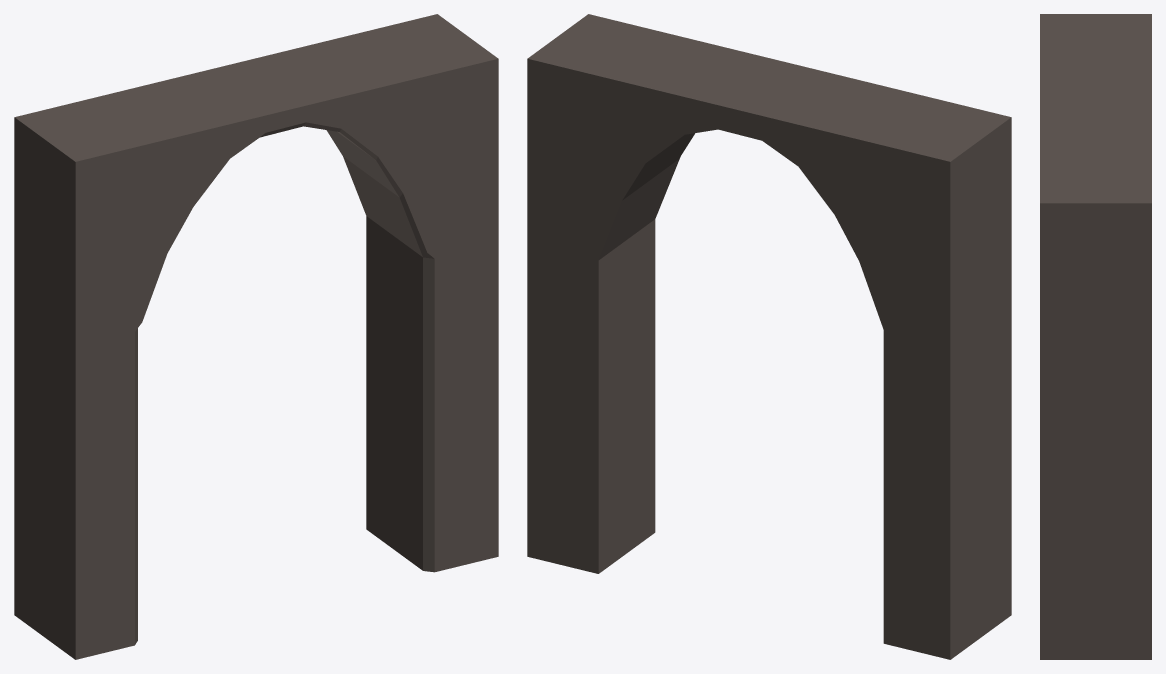
File: MCastle_WindowWall_01_Int_A.FBX
3 views of the same model, side by side, from view 1: azimuth 30°, elevation 25°; view 2: azimuth 150°, elevation 25°; view 3: azimuth 270°, elevation 25° (orthographic). The views are drawn at different scales.
Visible parts, largest first — view 1: MCastle_WindowWall_02_Int_A; view 2: MCastle_WindowWall_02_Int_A; view 3: MCastle_WindowWall_02_Int_A.
Boxes of the visible parts, x1,y1,x2,y2 form: MCastle_WindowWall_02_Int_A: (14,14,498,659); MCastle_WindowWall_02_Int_A: (527,14,1011,659); MCastle_WindowWall_02_Int_A: (1040,14,1151,659).
Bounding box in the file's own units: 157 × 177 × 39.37.
